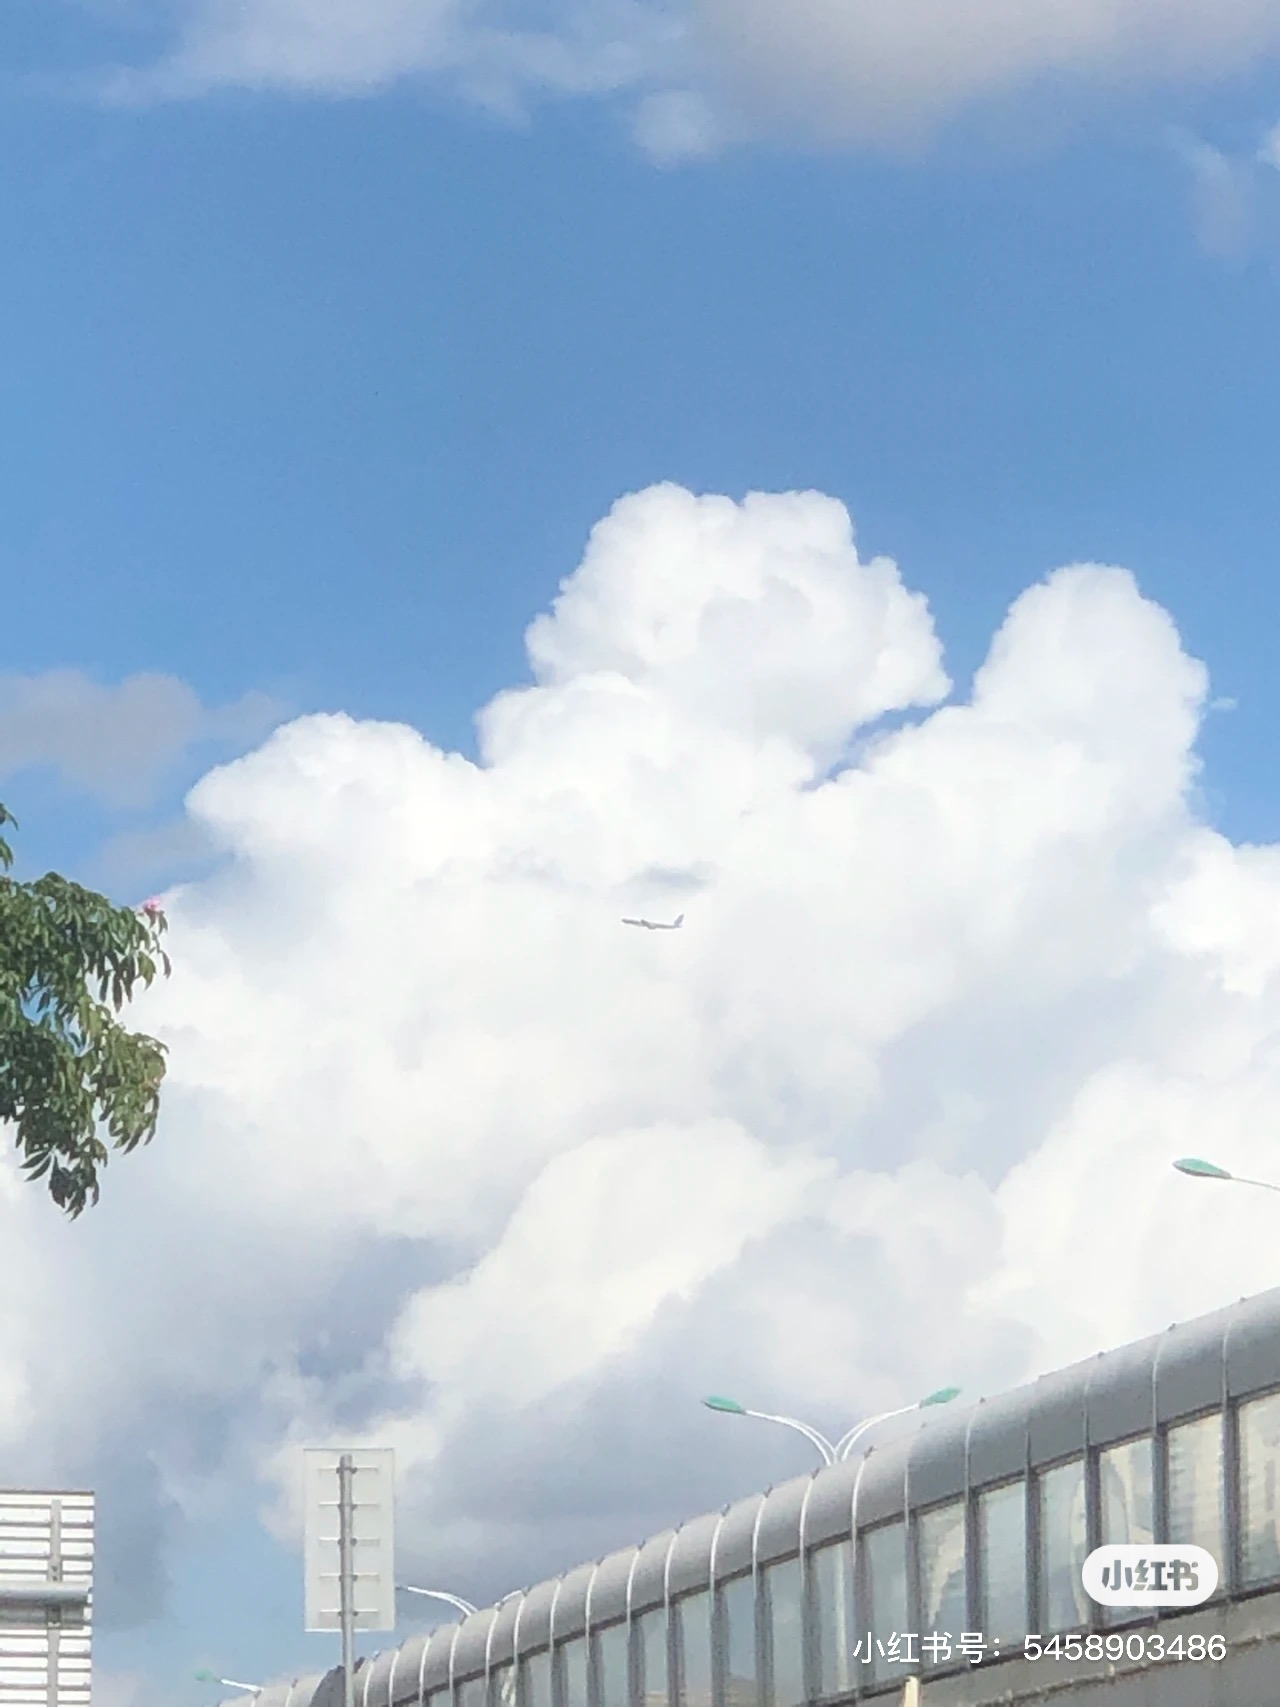Cumulus: (124, 453, 1230, 1509)
